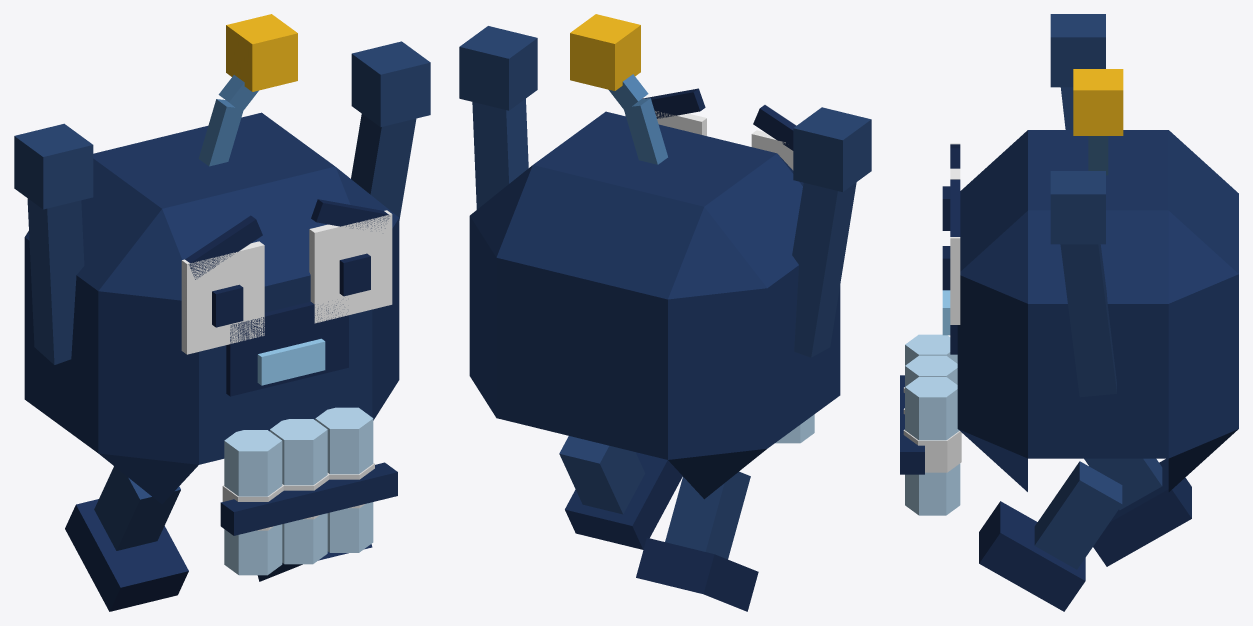
The model's file is kamikaze_r2.glb.
3 renders of one model, left to right at view 1: azimuth 30°, elevation 25°; view 2: azimuth 150°, elevation 25°; view 3: azimuth 270°, elevation 25°, orthographic. The views are drawn at different scales.
Parts seen in each view (by area): view 1: kamikaze_r2_mesh; view 2: kamikaze_r2_mesh; view 3: kamikaze_r2_mesh.
Boxes of the visible parts, left/top/right/bottom form: kamikaze_r2_mesh: left=14, top=14, right=430, bottom=611; kamikaze_r2_mesh: left=459, top=14, right=871, bottom=611; kamikaze_r2_mesh: left=900, top=14, right=1238, bottom=611.
Bounding box in the file's own units: 0.8113 × 1.1 × 0.6443.
1 material, 1 textured.
